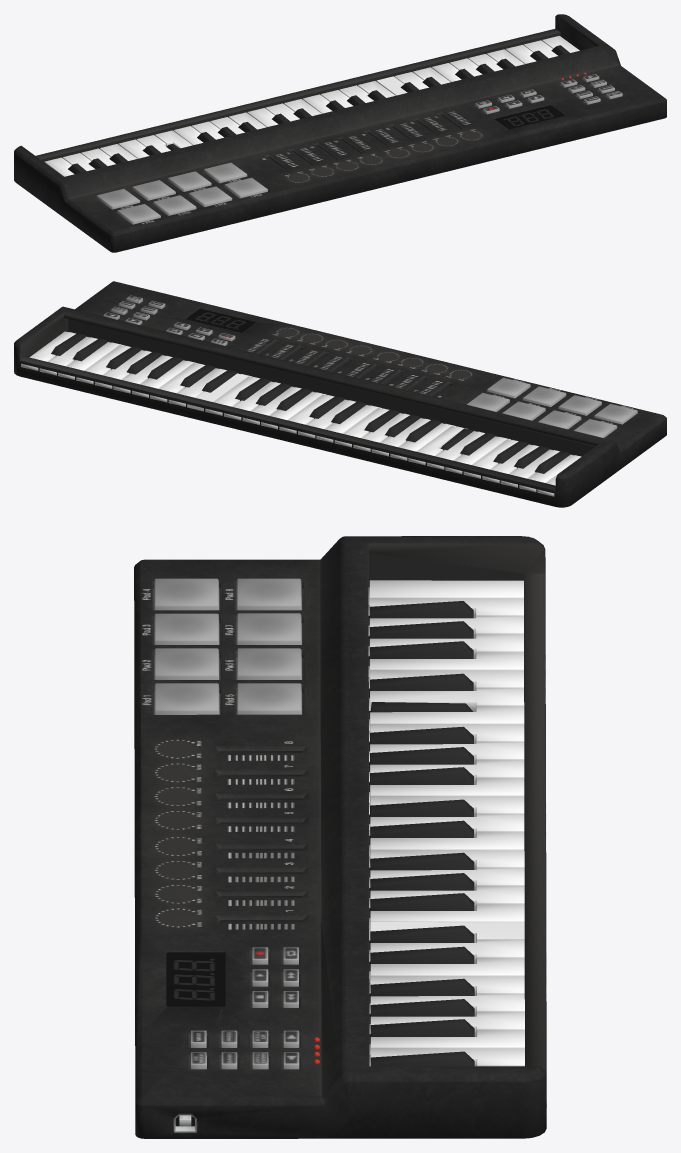
The model's file is NFG-I0035.glb.
The picture shows the model from 3 angles, top to bottom: view 1: azimuth 30°, elevation 25°; view 2: azimuth 150°, elevation 25°; view 3: azimuth 270°, elevation 25°; orthographic projection. The views are drawn at different scales.
Visible parts, largest first — view 1: BODY.001, White_key_C4.001; view 2: BODY.001, White_key_C4.001, White_Key_E3.001, White_Key_E1.001, White_Key_E2.001, White_Key_E4.001, White_Key_B1.001, White_Key_B3.001, White_Key_B2.001, White_Key_B4.001, White_Key_D1.001, White_key_C1.001 (+20 smaller); view 3: BODY.001, White_Key_C5.001, White_Key_D4.001, White_key_C3.001, White_key_C2.001, White_key_C4.001, White_key_F4.001, White_key_F2.001, White_key_F3.001, White_key_F1.001, White_Key_D3.001, White_Key_D2.001 (+35 smaller).
Boxes of the visible parts, box(x1,y1,x2,y2) form: BODY.001: box(14, 14, 666, 252); White_key_C4.001: box(155, 130, 192, 148); BODY.001: box(14, 281, 666, 507); White_key_C4.001: box(408, 425, 467, 465); White_Key_E3.001: box(316, 405, 381, 442); White_Key_E1.001: box(58, 342, 123, 379); White_Key_E2.001: box(187, 373, 252, 411); White_Key_E4.001: box(445, 436, 510, 474); White_Key_B1.001: box(132, 360, 197, 397); White_Key_B3.001: box(390, 423, 455, 460); White_Key_B2.001: box(261, 391, 326, 429); White_Key_B4.001: box(519, 454, 581, 492); White_Key_D1.001: box(39, 336, 97, 375); White_key_C1.001: box(21, 331, 75, 370); BODY.001: box(134, 536, 546, 1138); White_Key_C5.001: box(368, 580, 523, 604); White_Key_D4.001: box(369, 688, 545, 711); White_key_C3.001: box(369, 832, 546, 856); White_key_C2.001: box(369, 958, 546, 982); White_key_C4.001: box(369, 706, 524, 730); White_key_F4.001: box(368, 652, 545, 677); White_key_F2.001: box(369, 904, 524, 928); White_key_F3.001: box(369, 778, 524, 802); White_key_F1.001: box(369, 1030, 524, 1054); White_Key_D3.001: box(369, 814, 546, 837); White_Key_D2.001: box(369, 940, 546, 963).
Bounding box in the file's own units: 1.65 × 0.1022 × 0.5303.
Materials: 4 (1 with a texture image).
